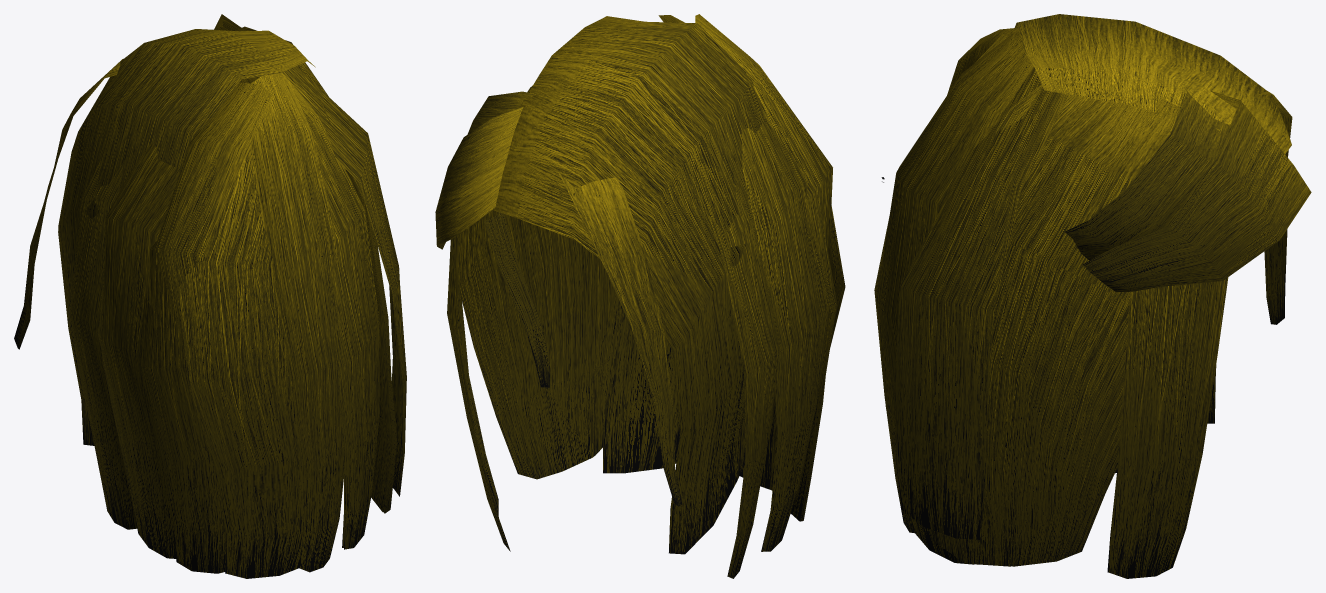
Rendered from Pelo.FBX.
3 renders of one model, left to right at view 1: azimuth 30°, elevation 25°; view 2: azimuth 150°, elevation 25°; view 3: azimuth 270°, elevation 25°, orthographic. The views are drawn at different scales.
Parts seen in each view (by area): view 1: Pelo; view 2: Pelo; view 3: Pelo.
Part boxes in pixels (<box>): Pelo: <box>14,14,406,578</box>; Pelo: <box>435,14,845,578</box>; Pelo: <box>874,14,1311,578</box>.
Bounding box in the file's own units: 56.8 × 88.74 × 70.4.
